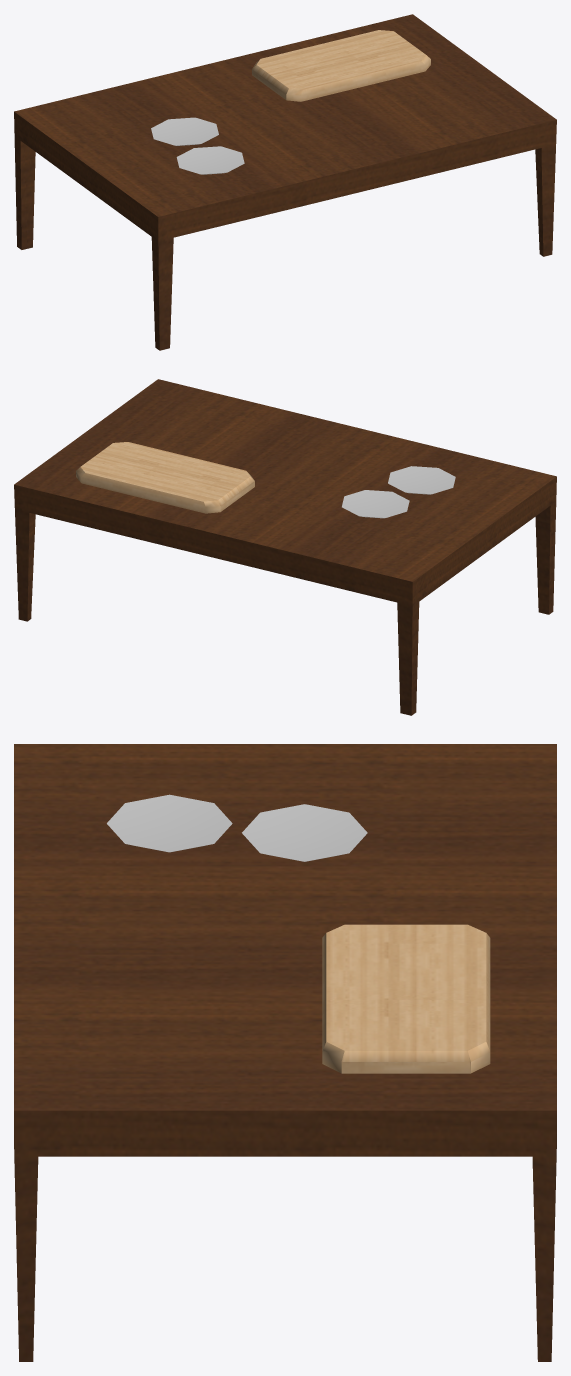
The model's file is kitchen_table.fbx.
3 renders of one model, top to bottom at view 1: azimuth 30°, elevation 25°; view 2: azimuth 150°, elevation 25°; view 3: azimuth 270°, elevation 25°, orthographic. The views are drawn at different scales.
Visible parts, largest first — view 1: polySurface1; view 2: polySurface1; view 3: polySurface1.
Boxes of the visible parts, <box> form: polySurface1: <box>14,14,556,350</box>; polySurface1: <box>14,379,556,715</box>; polySurface1: <box>14,744,556,1361</box>.
Size of the model in its own units: 2.27 by 0.793 by 1.42.
